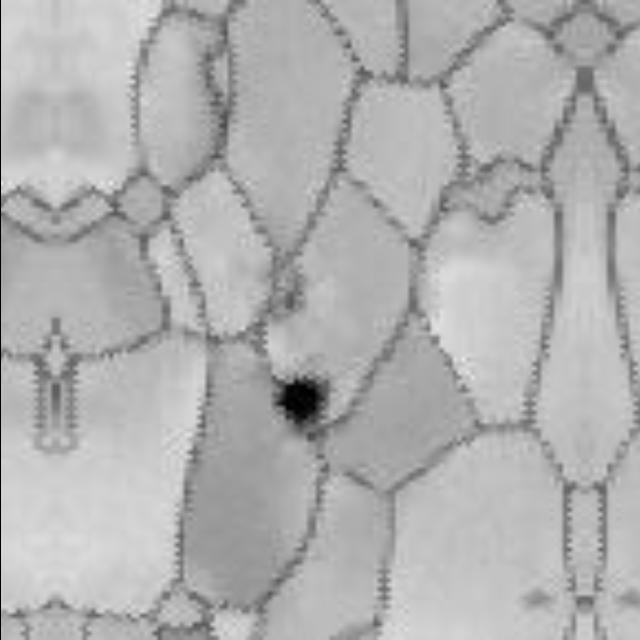good_void: (273, 367, 335, 435)
